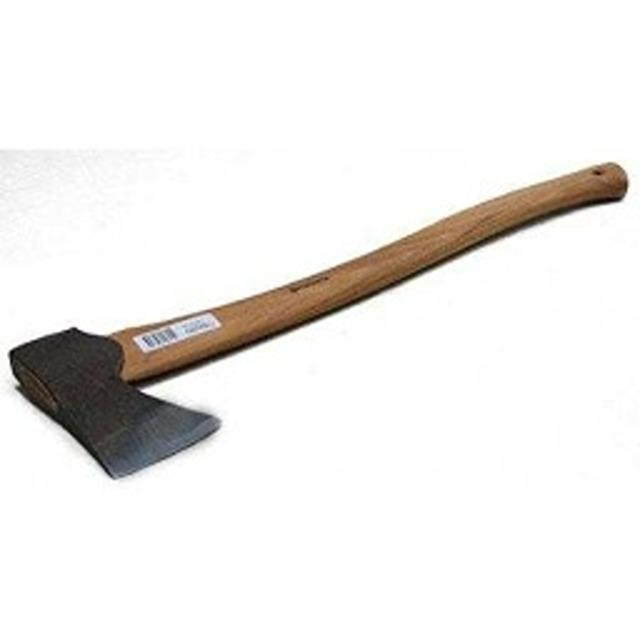ax: (4, 154, 636, 487)
